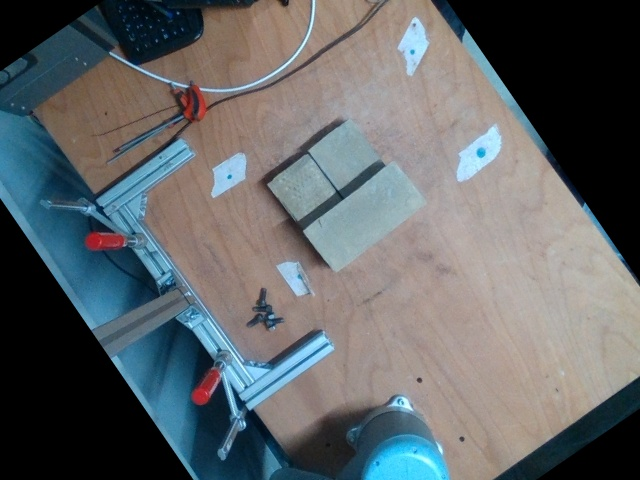brick: (302, 160, 426, 274)
